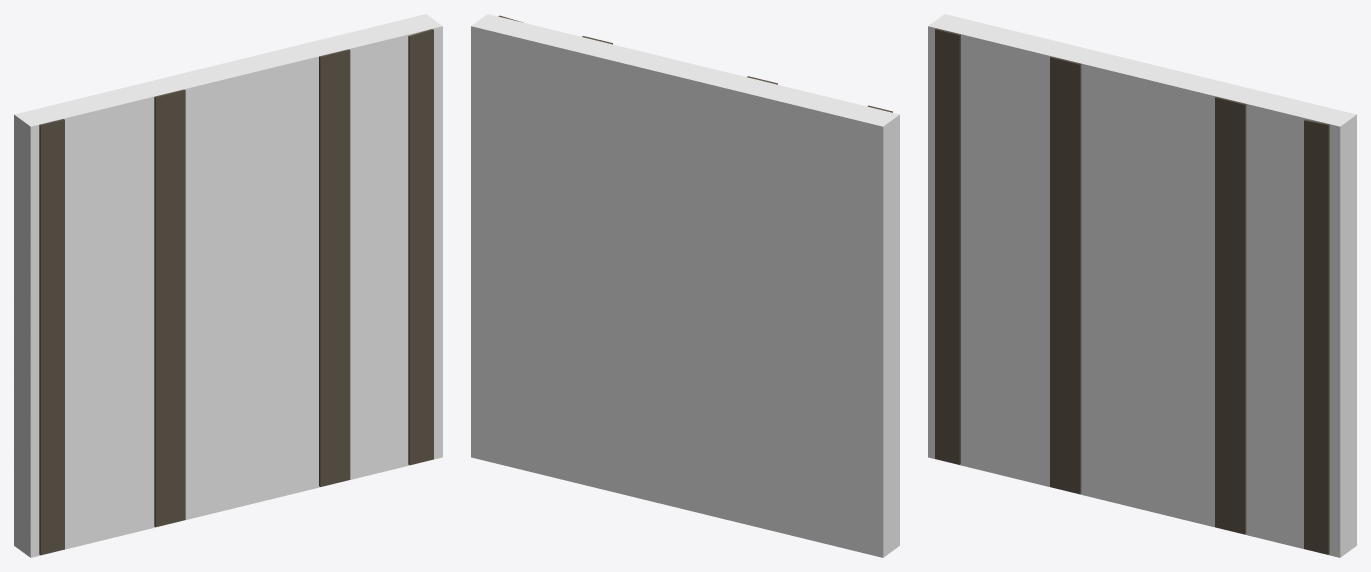
Rendered from _ROOF_up_quad_1.glb.
3 renders of one model, left to right at view 1: azimuth 30°, elevation 25°; view 2: azimuth 150°, elevation 25°; view 3: azimuth 330°, elevation 25°, orthographic.
Parts seen in each view (by area): view 1: ROOF_up_quad_1; view 2: ROOF_up_quad_1; view 3: ROOF_up_quad_1.
Boxes of the visible parts, box(x1,y1,x2,y2) form: ROOF_up_quad_1: box(14, 14, 442, 557); ROOF_up_quad_1: box(471, 14, 899, 557); ROOF_up_quad_1: box(928, 14, 1356, 557).
Size of the model in its own units: 1 by 1 by 0.0761.
1 material, 1 textured.
